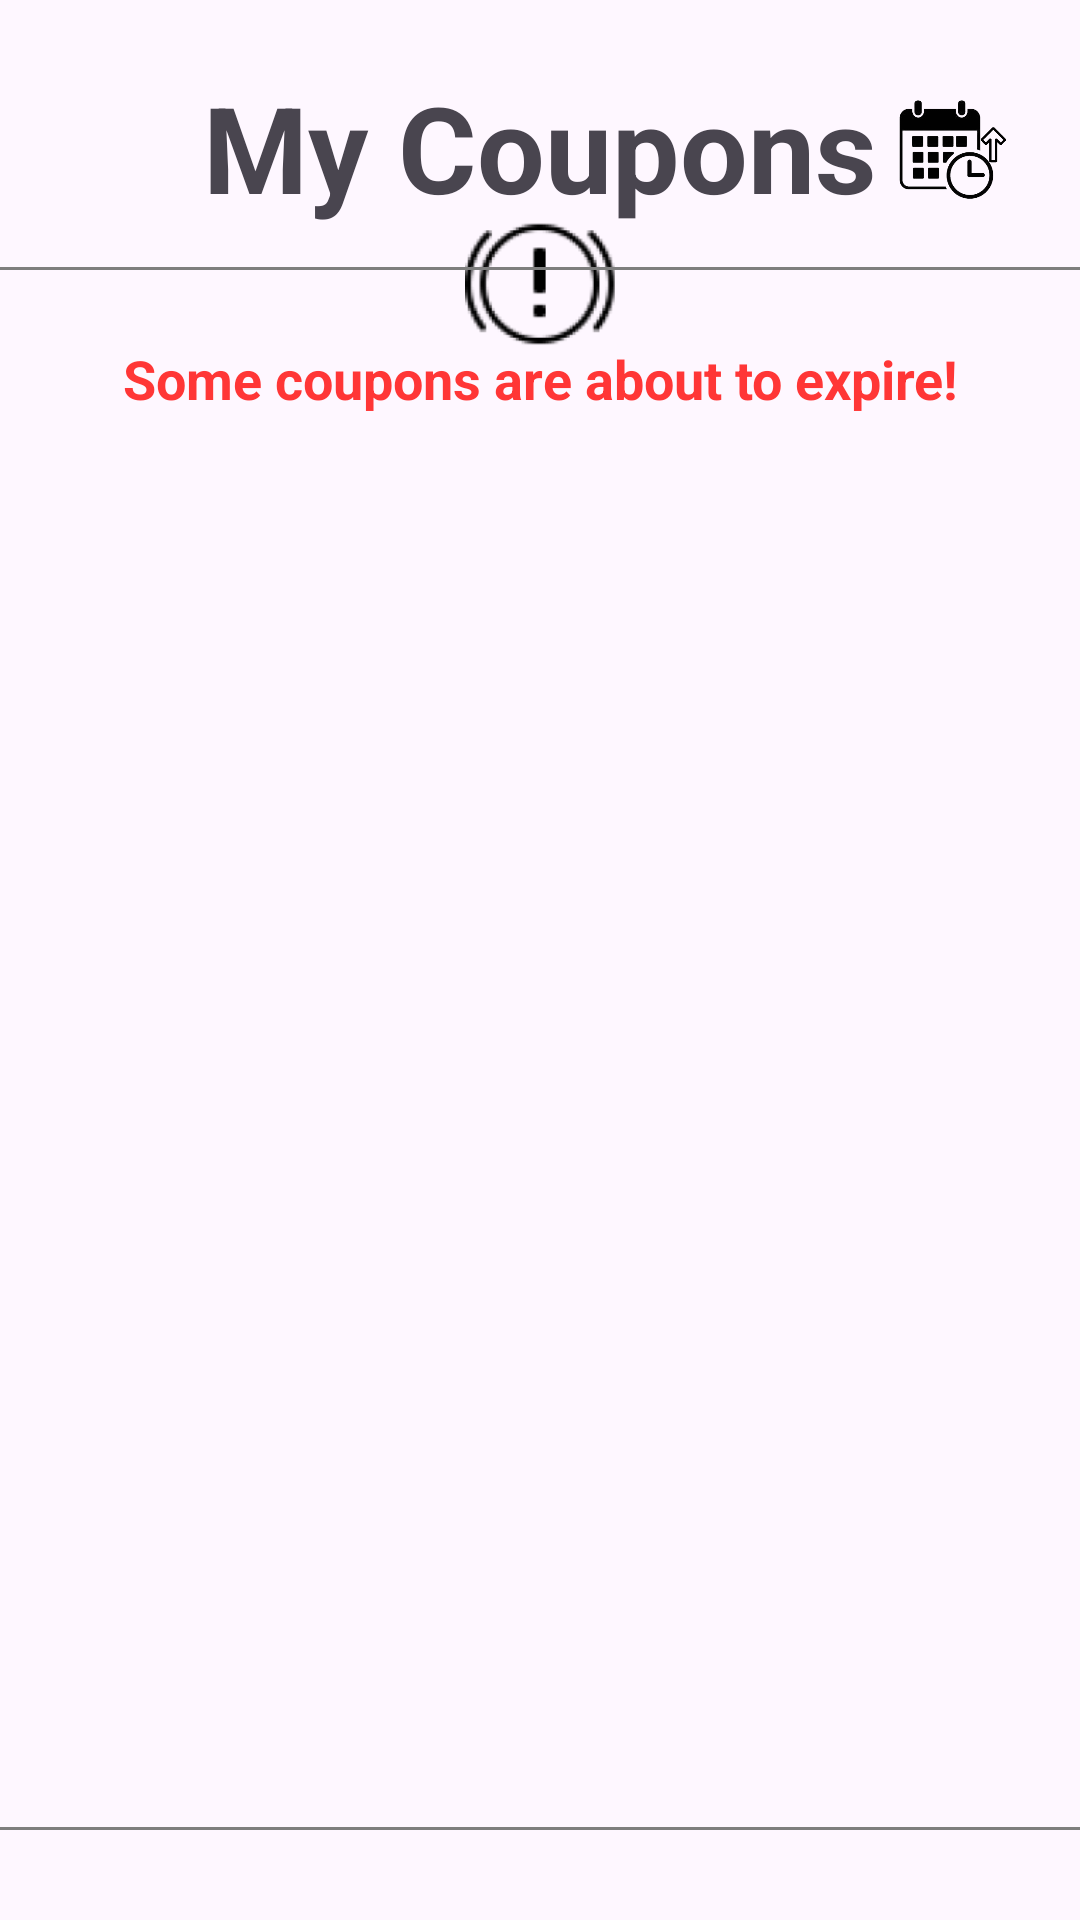

Icons on this 1080w x 1920h Android screen, each with the point to tap as point (x, y):
alert: point (540, 284)
sort by date: point (952, 149)
